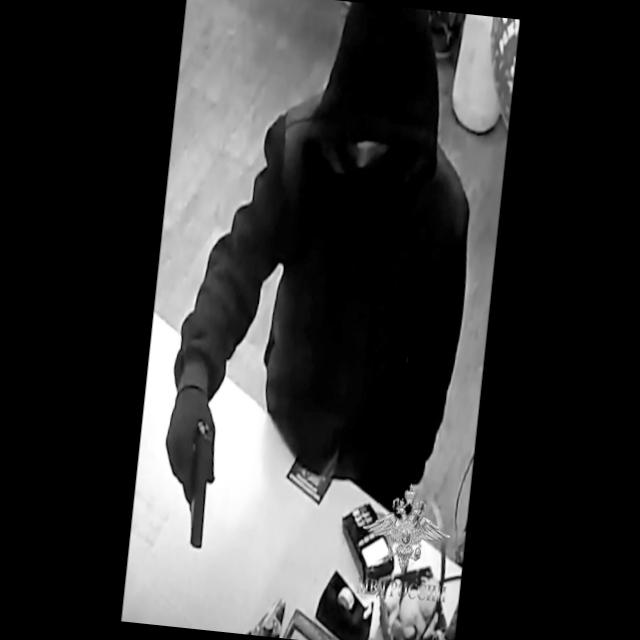gun: (152, 392, 228, 550)
person with a gun: (155, 0, 493, 566)
